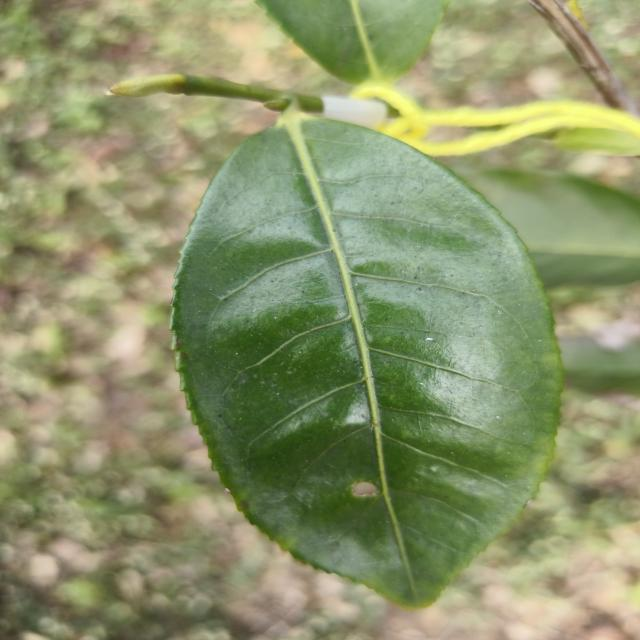Leaf: (171, 119, 561, 608), (458, 169, 640, 287), (256, 0, 449, 84)
